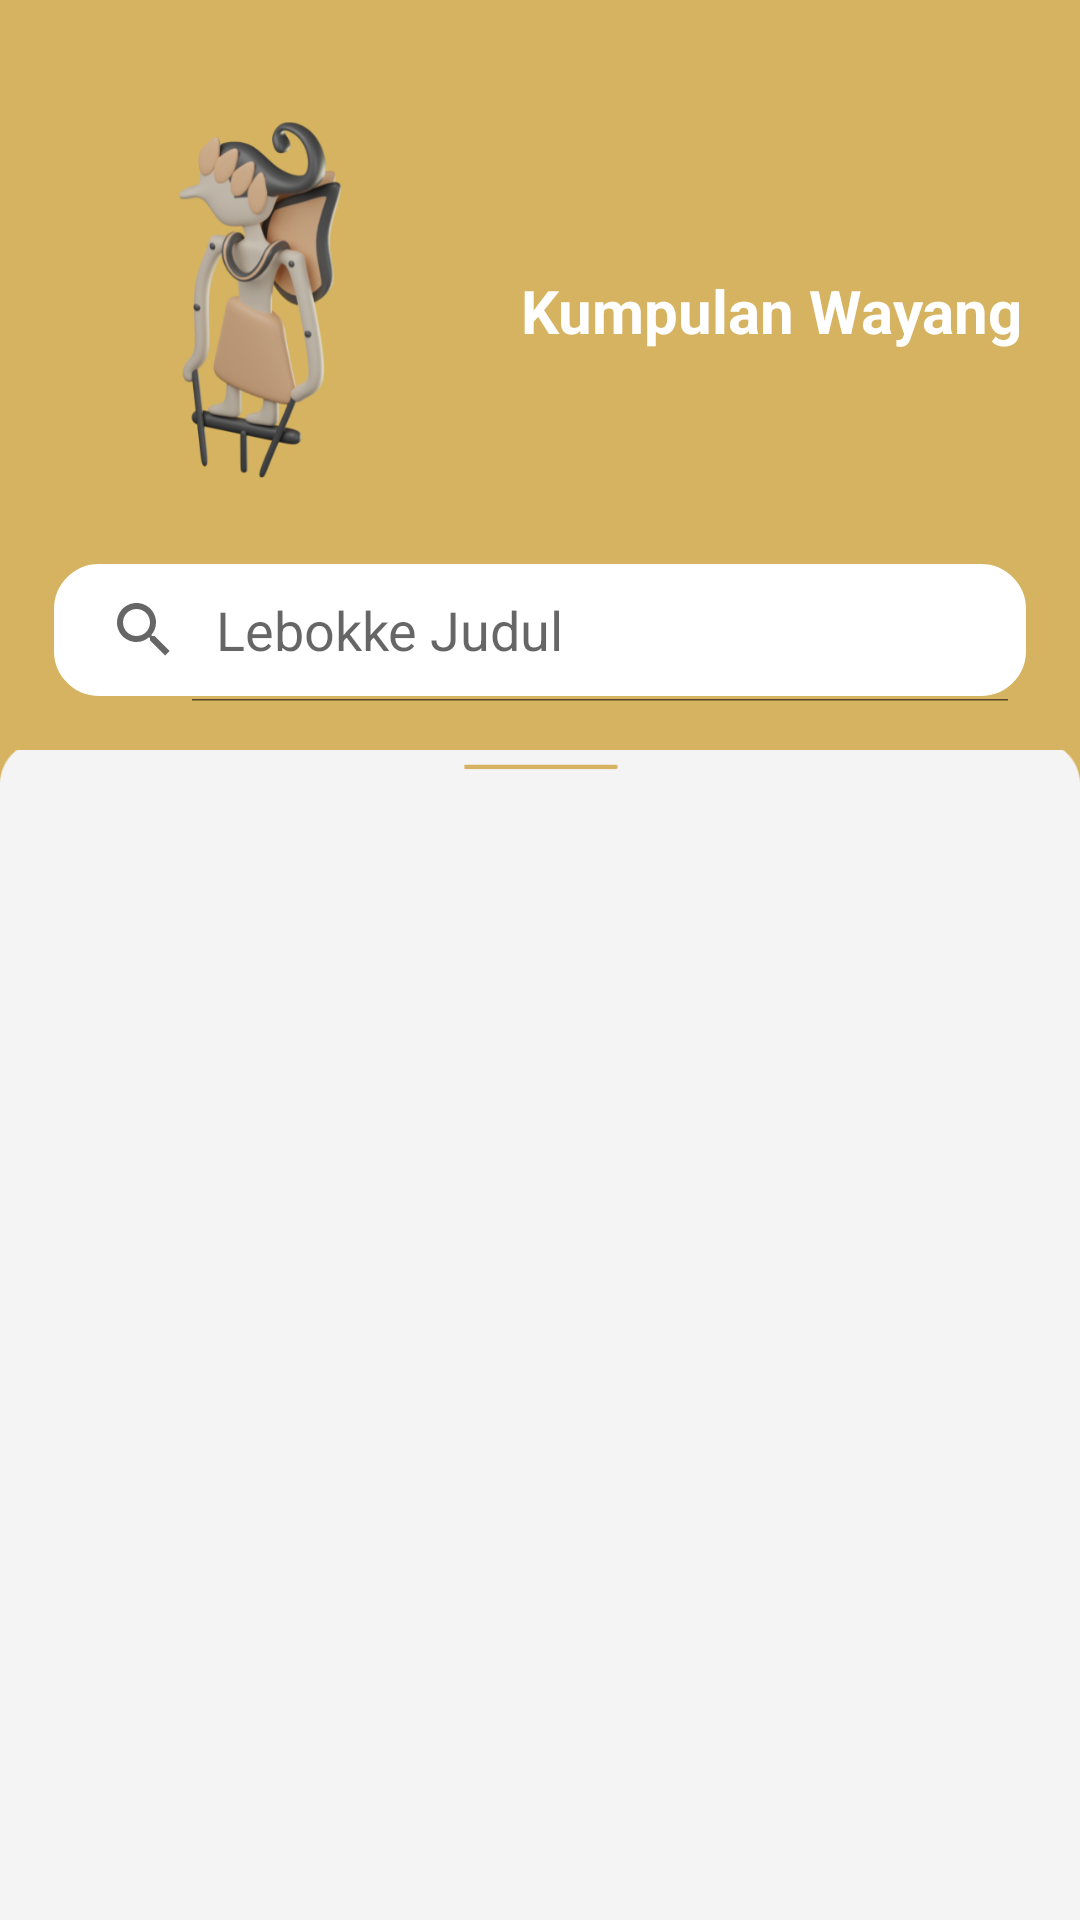

Icons on this 1080px×1920px Android screen, each with its box as (x1, y1, x2, y2):
wayangbig: (179, 122, 341, 478)
